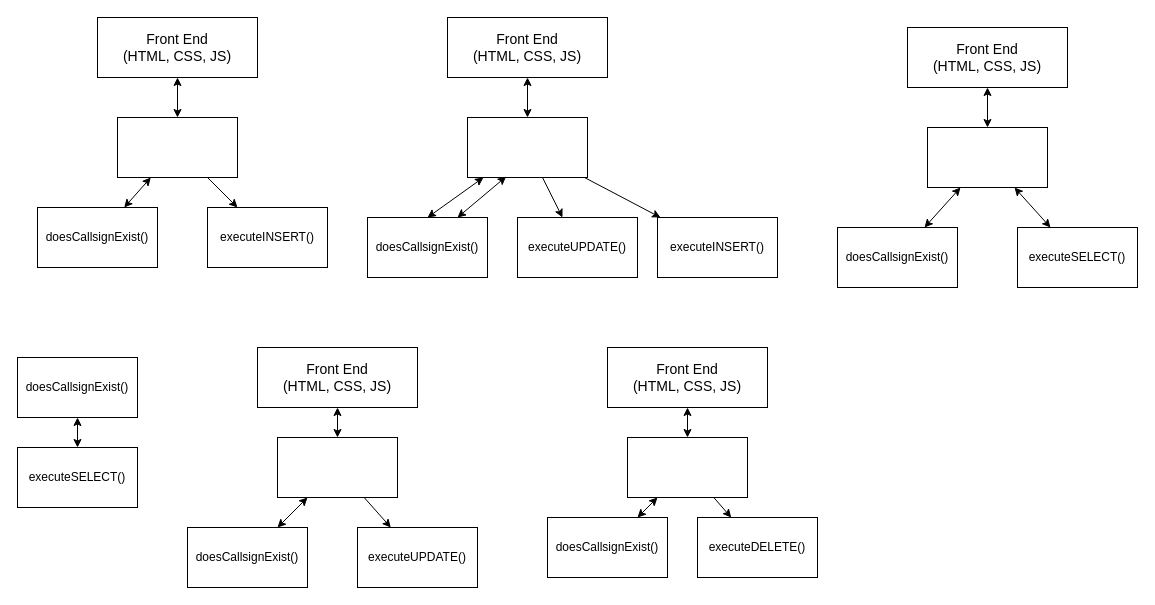
This 1155x605 diagram has some shape labels left out. Each missing label, with the centre of its shape:
"deleteCallsign.py" goes at point 687,467.
"getCallsignData.py" goes at point 987,157.
"registerCallsign.py" goes at point 177,147.
"registerTag.py" goes at point 527,147.
"updateCallsignID.py" goes at point 337,467.
